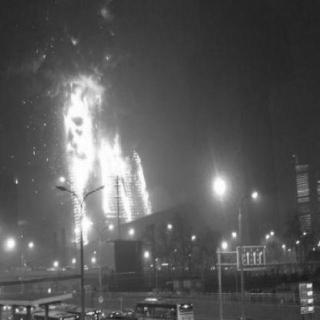other: (164, 218, 174, 232)
